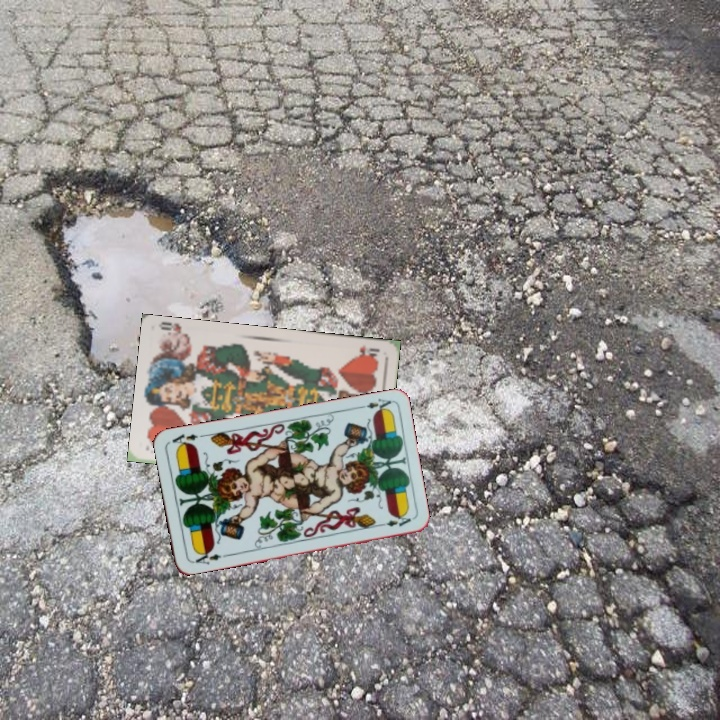EA: (353, 394, 394, 415), (189, 546, 229, 567)
HO: (351, 340, 382, 361)
